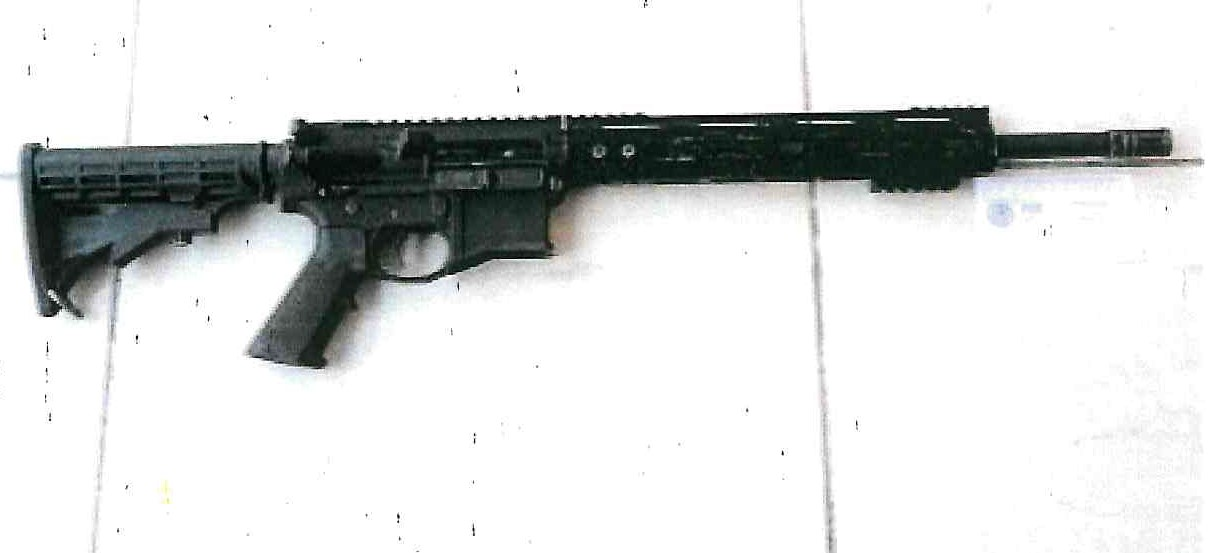Arma Real: (13, 100, 1188, 376)
